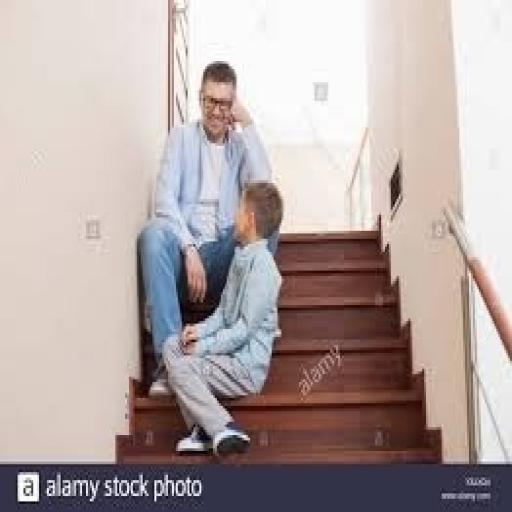sitting: (135, 58, 277, 396), (160, 178, 284, 459)
